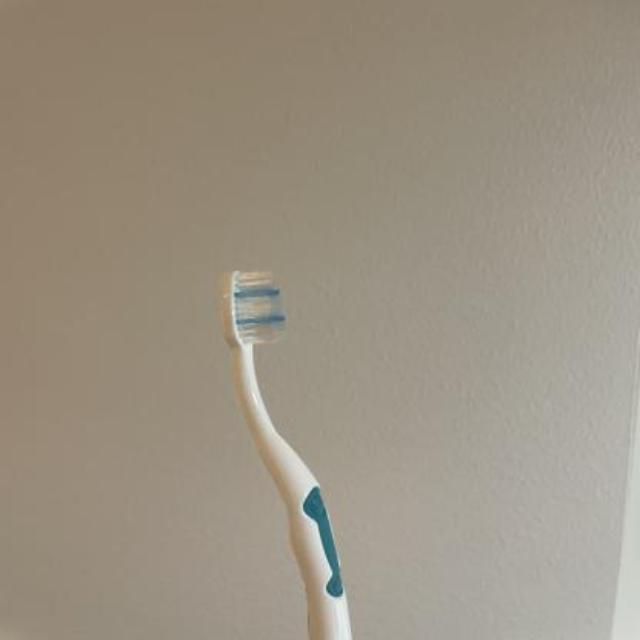toothbrush: (216, 256, 360, 640)
